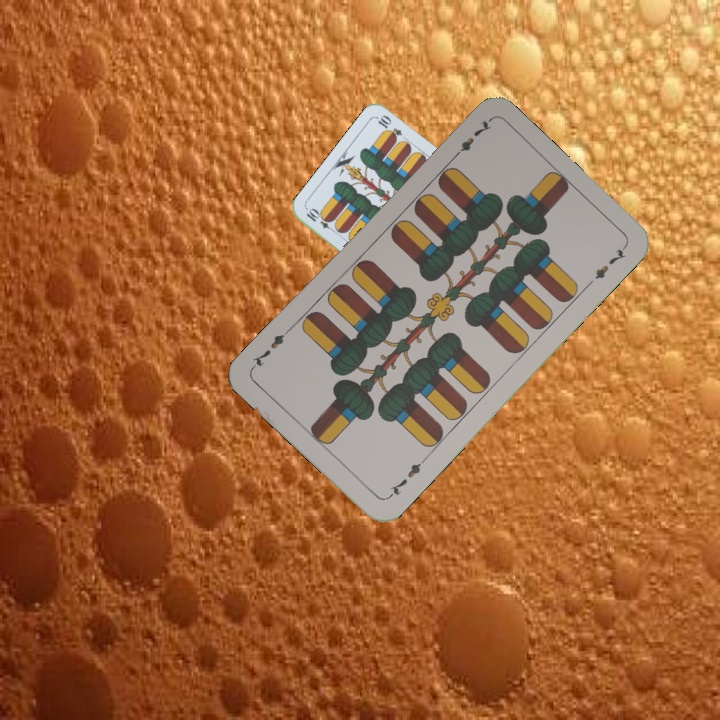E10: (302, 205, 339, 235)
E7: (448, 115, 494, 163), (384, 454, 429, 501)
